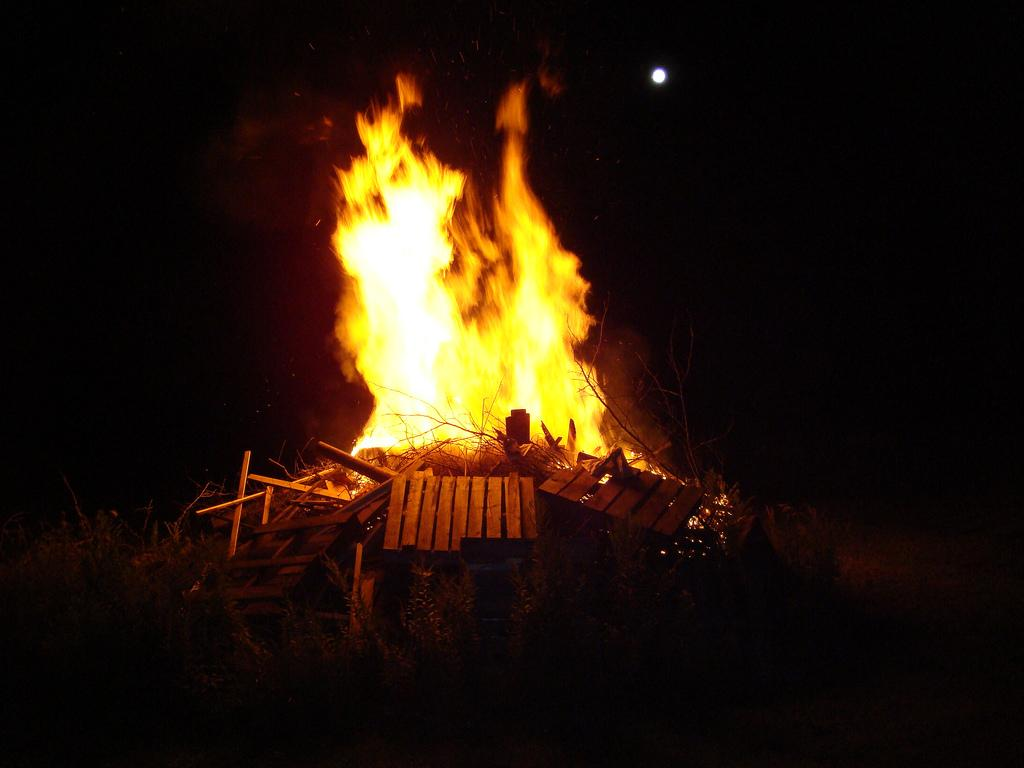fire: (354, 222, 450, 426), (506, 304, 574, 420), (354, 166, 450, 210), (506, 206, 544, 296)
